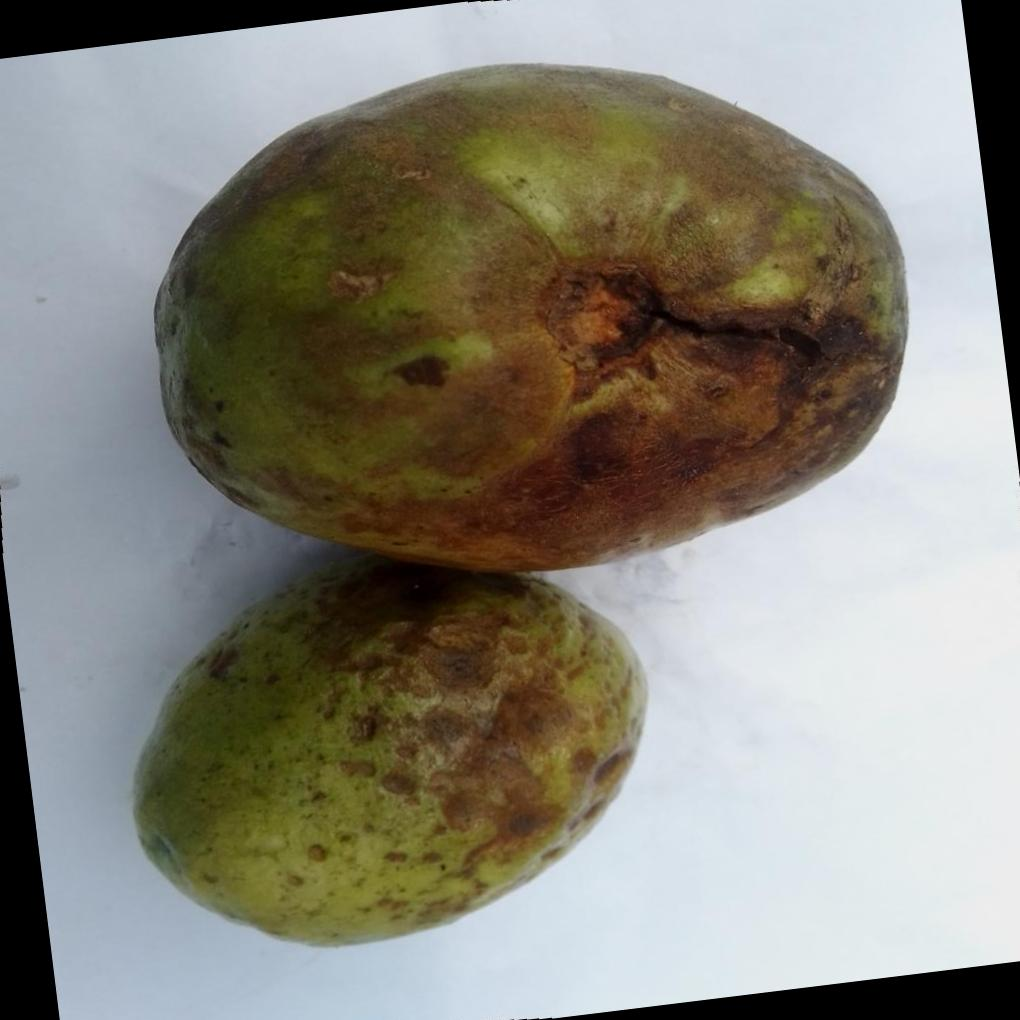FreshOrange: (127, 61, 907, 951)
